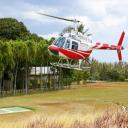helicopter: (30, 15, 128, 74)
